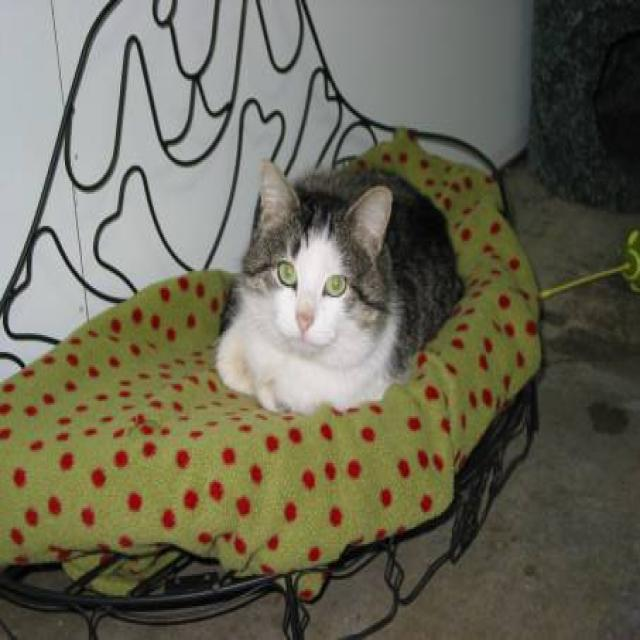cat: (214, 156, 464, 416)
